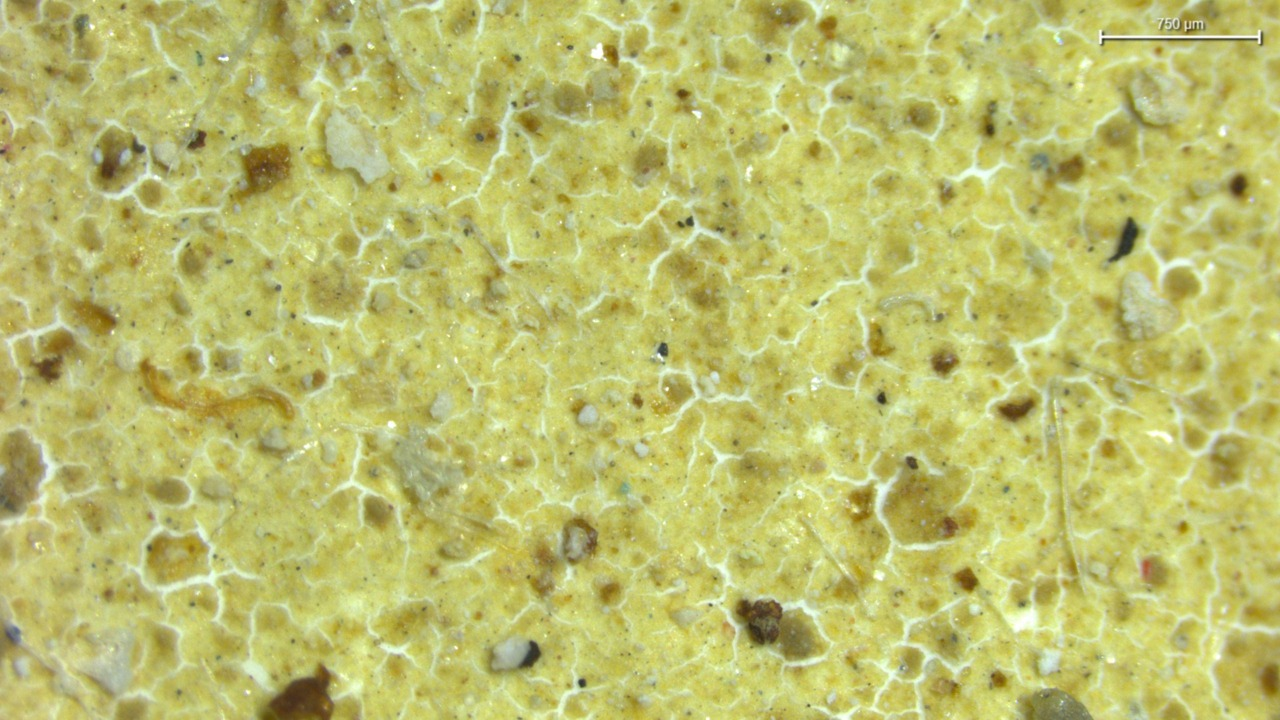microplastic_fragment: (325, 109, 390, 183), (1119, 272, 1178, 340)
